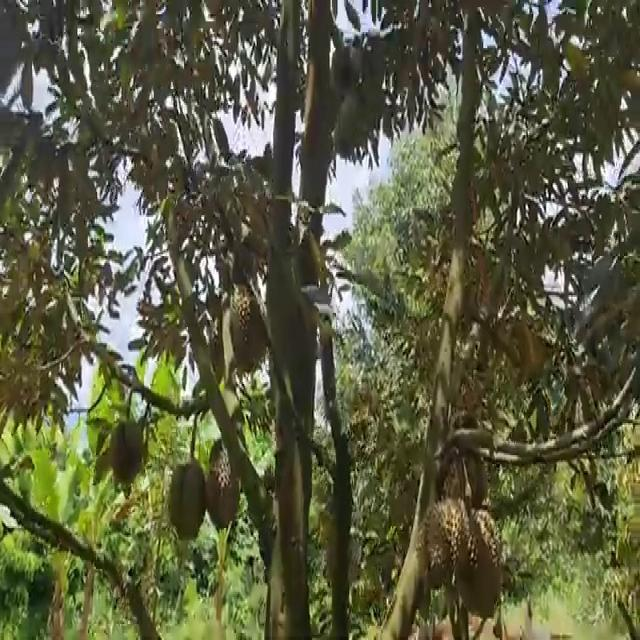durian: (452, 494, 508, 626), (224, 282, 274, 380), (164, 451, 209, 542), (204, 434, 244, 536), (415, 491, 453, 589), (104, 412, 146, 489)
